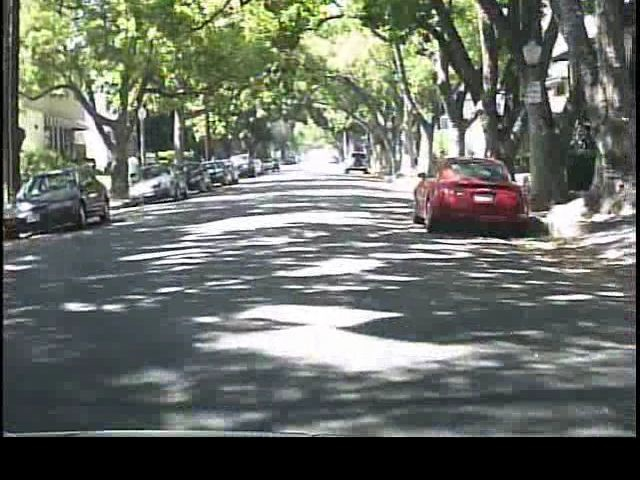person: (125, 148, 146, 194)
